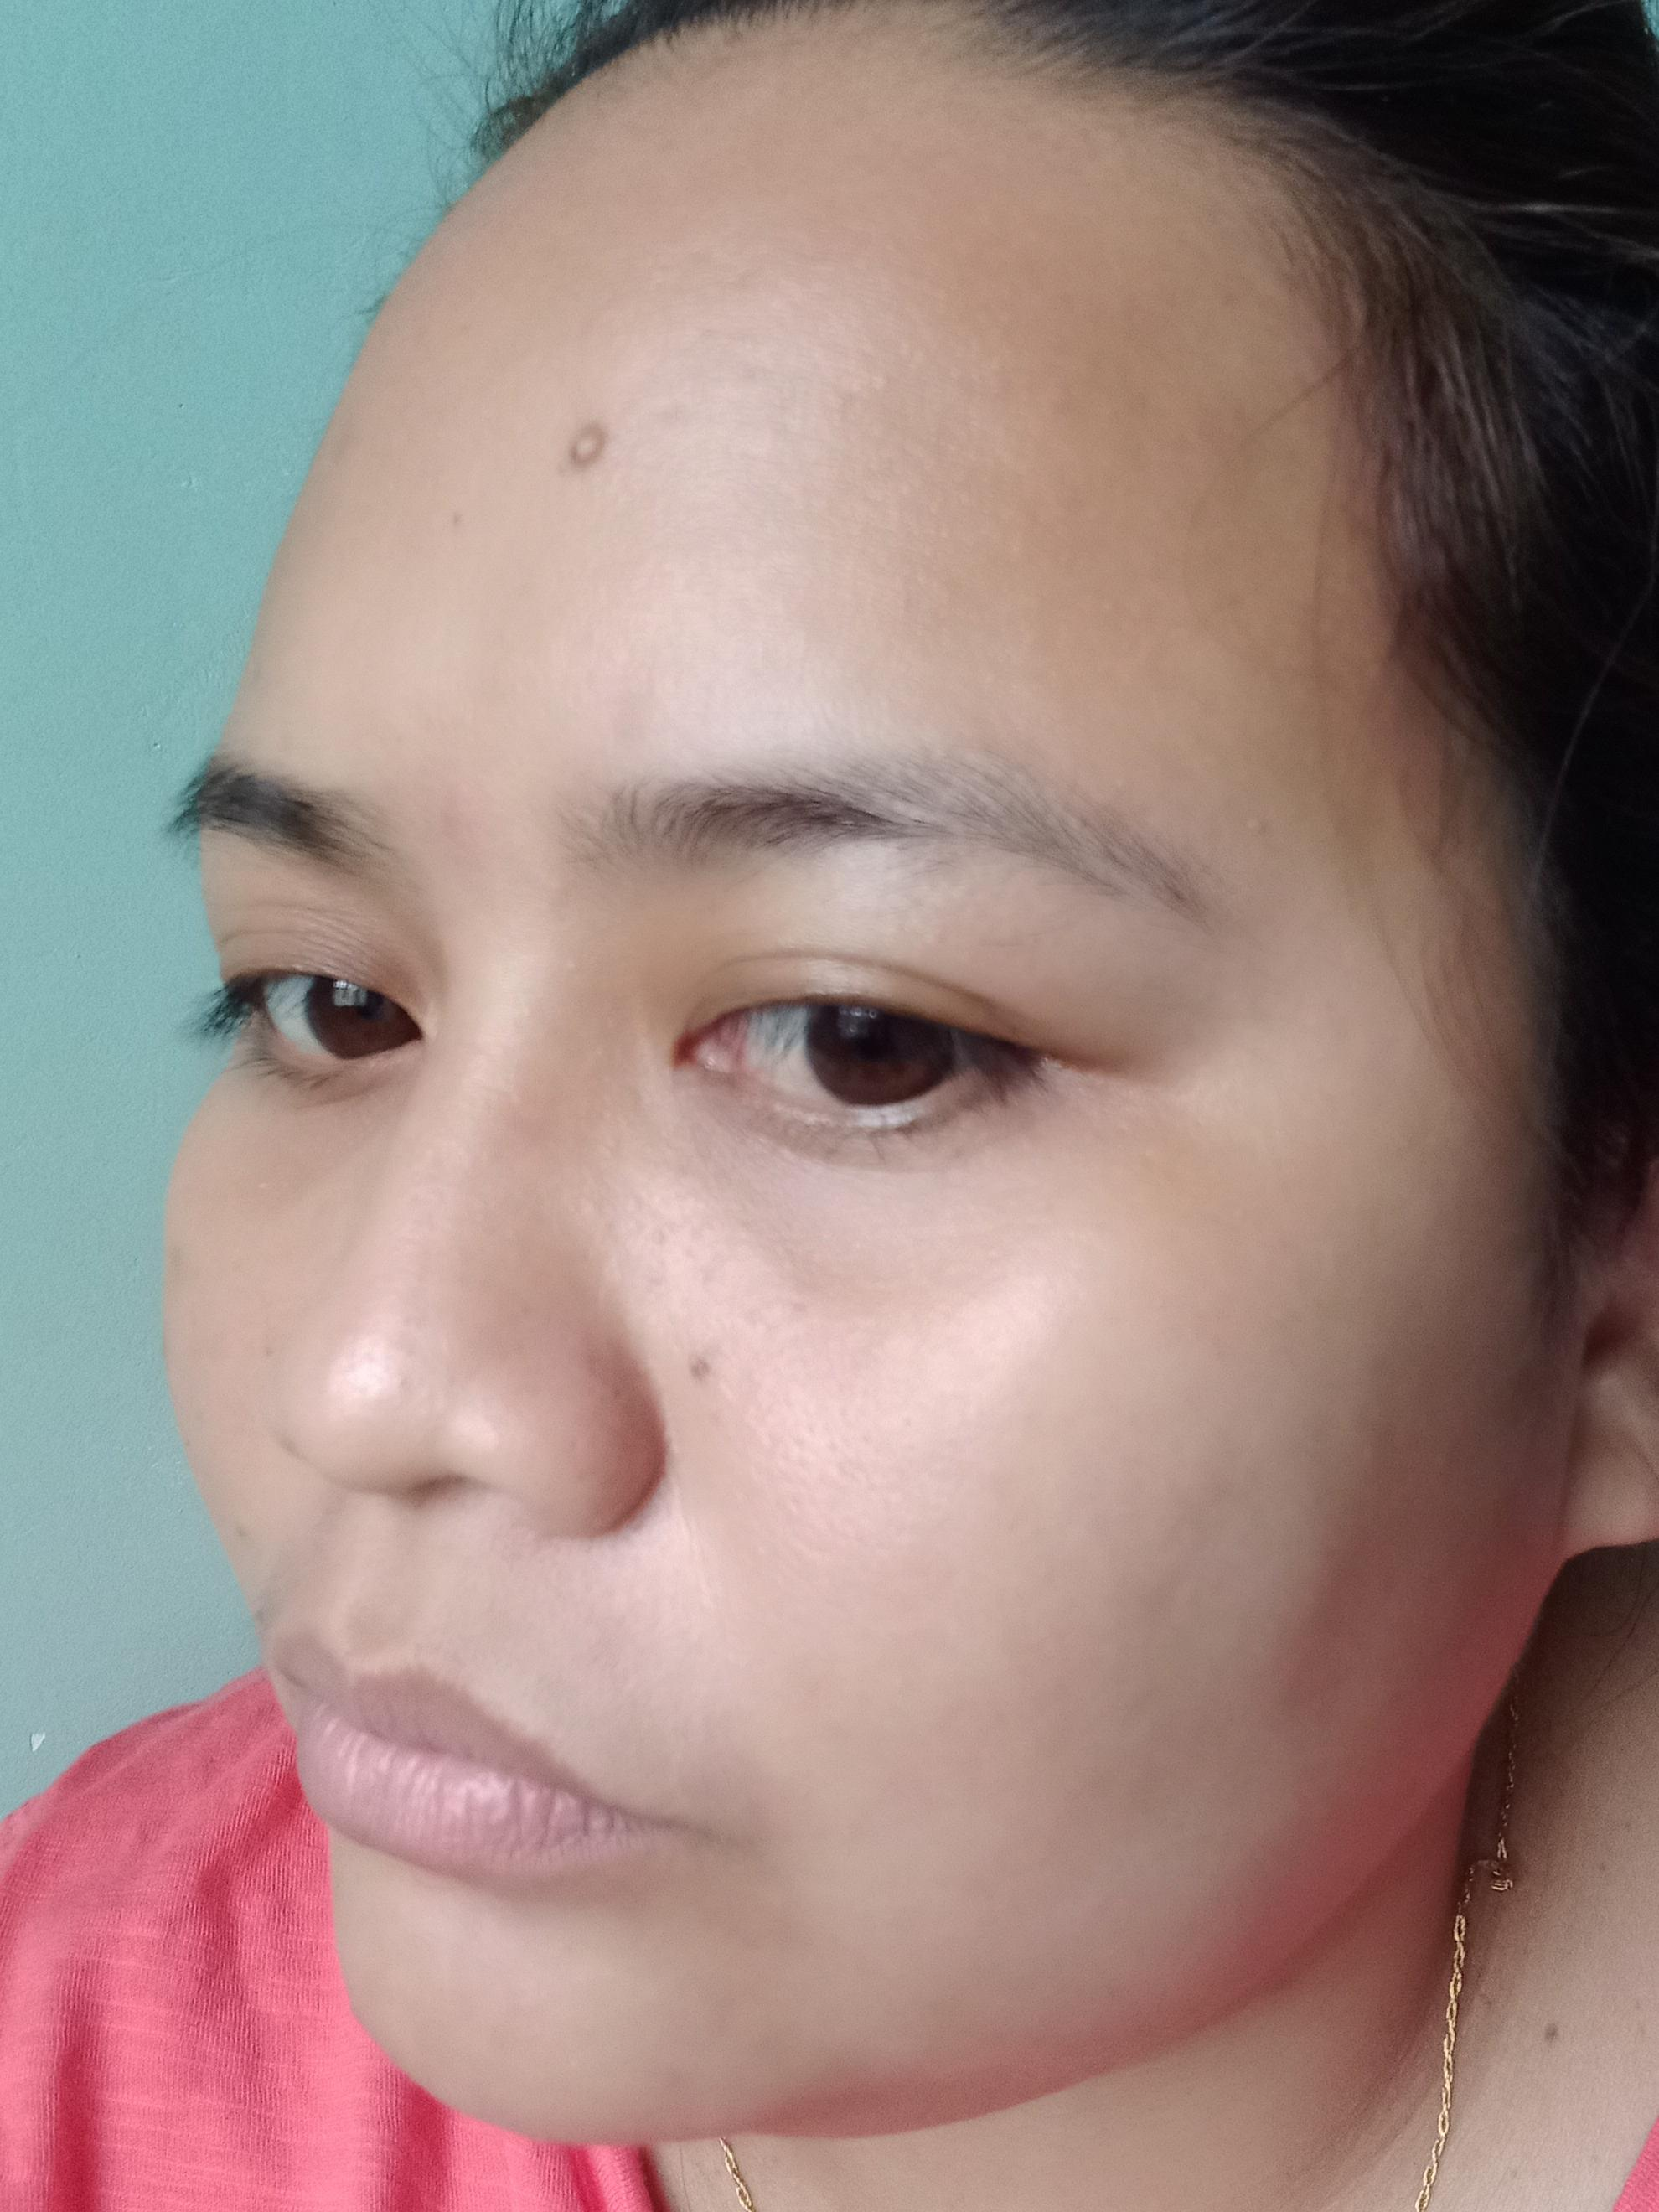Eyebags: (641, 1097, 1216, 1339), (206, 1075, 411, 1224)
